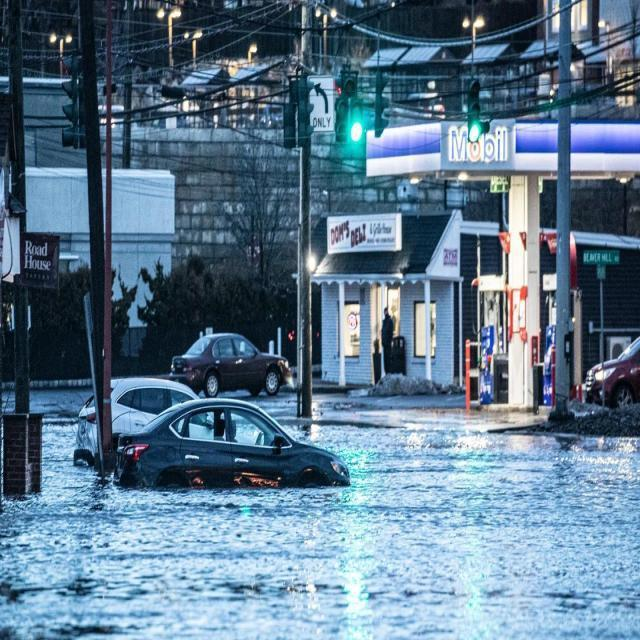water: (0, 381, 638, 637)
